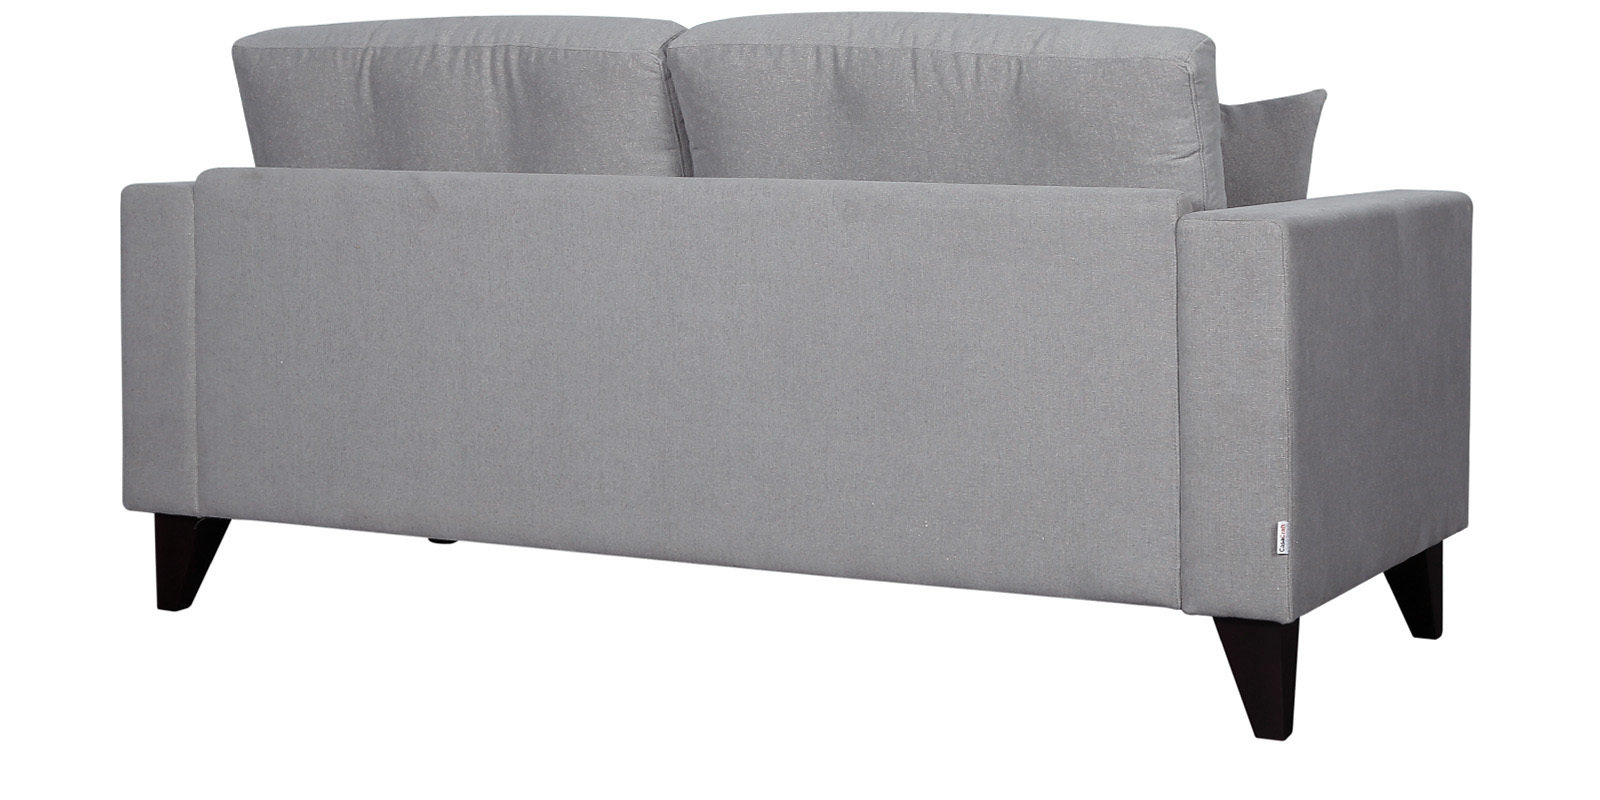Alfredo Three Seater Sofa in Ash Grey Colour by CasaCraft: (116, 4, 1480, 757)
